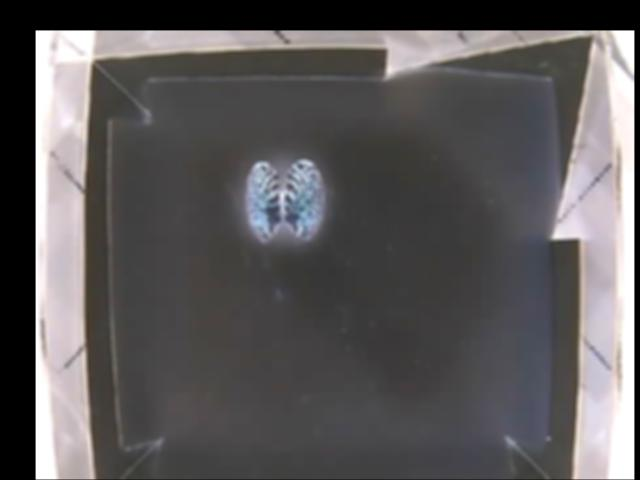Shell: (242, 158, 324, 245)
